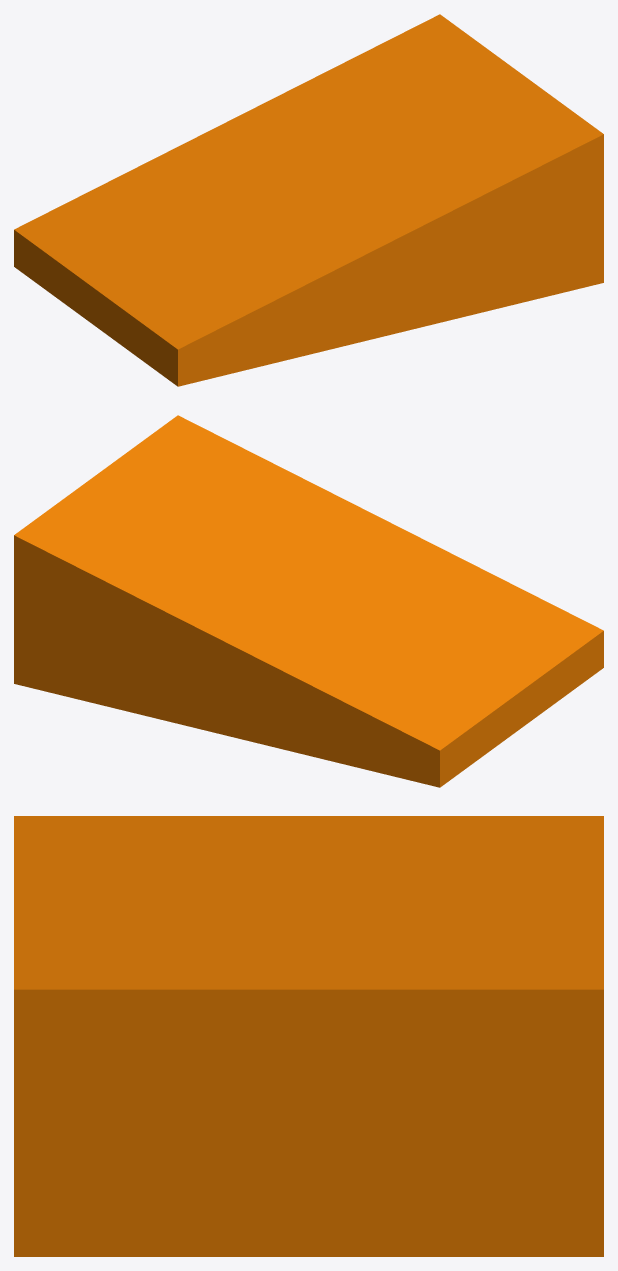
Rendered from incline_table.dae.
3 renders of one model, top to bottom at view 1: azimuth 30°, elevation 25°; view 2: azimuth 150°, elevation 25°; view 3: azimuth 270°, elevation 25°, orthographic. The views are drawn at different scales.
Parts seen in each view (by area): view 1: ID2; view 2: ID2; view 3: ID2.
Part boxes in pixels (x1=…): ID2: x1=14, y1=14, x2=603, y2=386; ID2: x1=14, y1=415, x2=603, y2=787; ID2: x1=14, y1=816, x2=603, y2=1256.
Bounding box in the file's own units: 0.3048 × 0.2032 × 0.1016.
